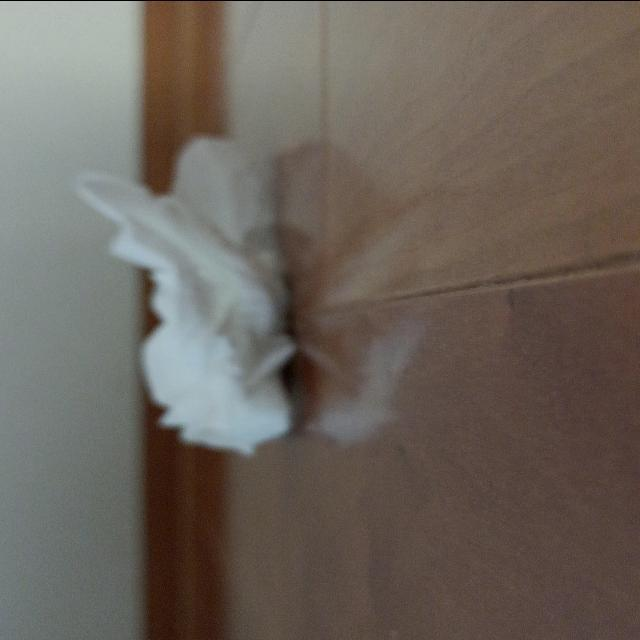Paper: (76, 142, 310, 483)
